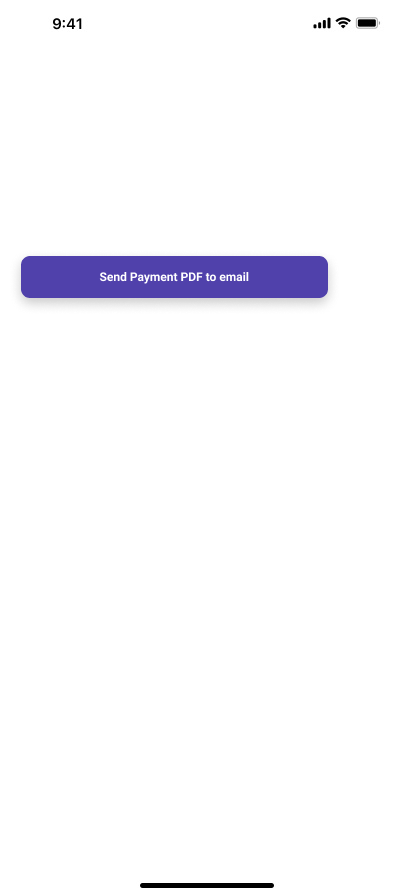Buttons: (8, 248, 341, 316)
Home Indicator: (0, 862, 414, 896)
Status Bar: (0, 0, 414, 44)
